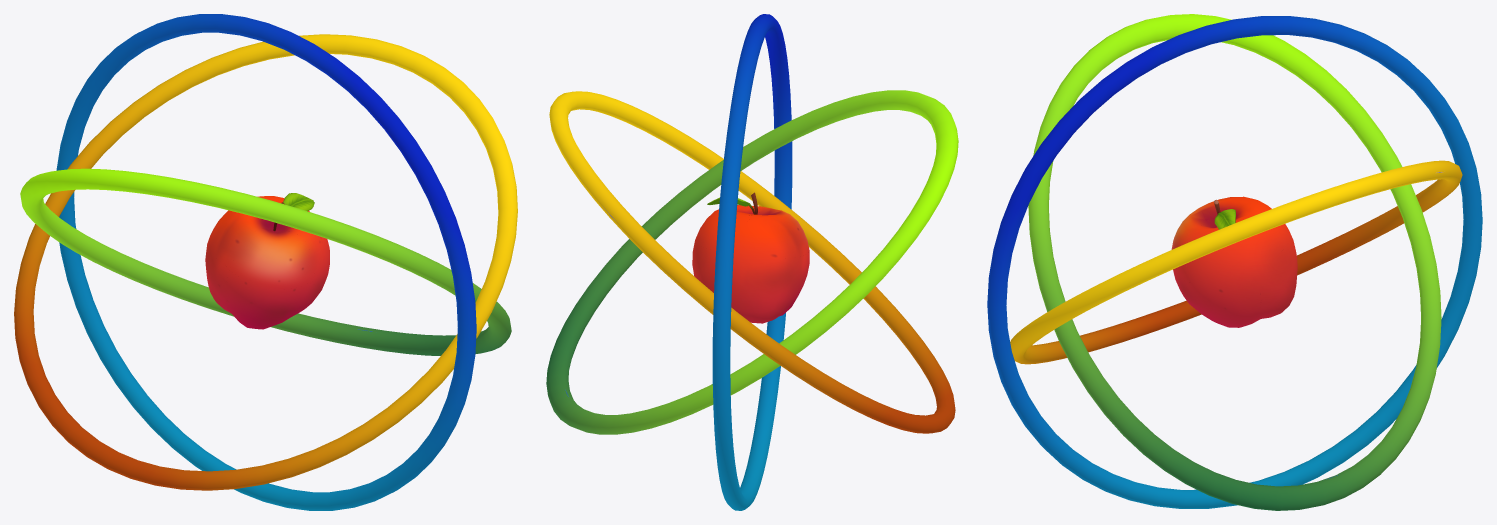
The model's file is physics_3december_day_16.glb.
3 views of the same model, side by side, from view 1: azimuth 30°, elevation 25°; view 2: azimuth 150°, elevation 25°; view 3: azimuth 270°, elevation 25° (orthographic). The views are drawn at different scales.
Visible parts, largest first — view 1: Object_2; view 2: Object_2; view 3: Object_2.
Part boxes in pixels (box(x1,y1,x2,y2)): Object_2: box(14, 14, 517, 510); Object_2: box(546, 14, 958, 510); Object_2: box(987, 14, 1482, 510).
Bounding box in the file's own units: 11.72 × 12.82 × 11.9.
Materials: 1 (1 with a texture image).
